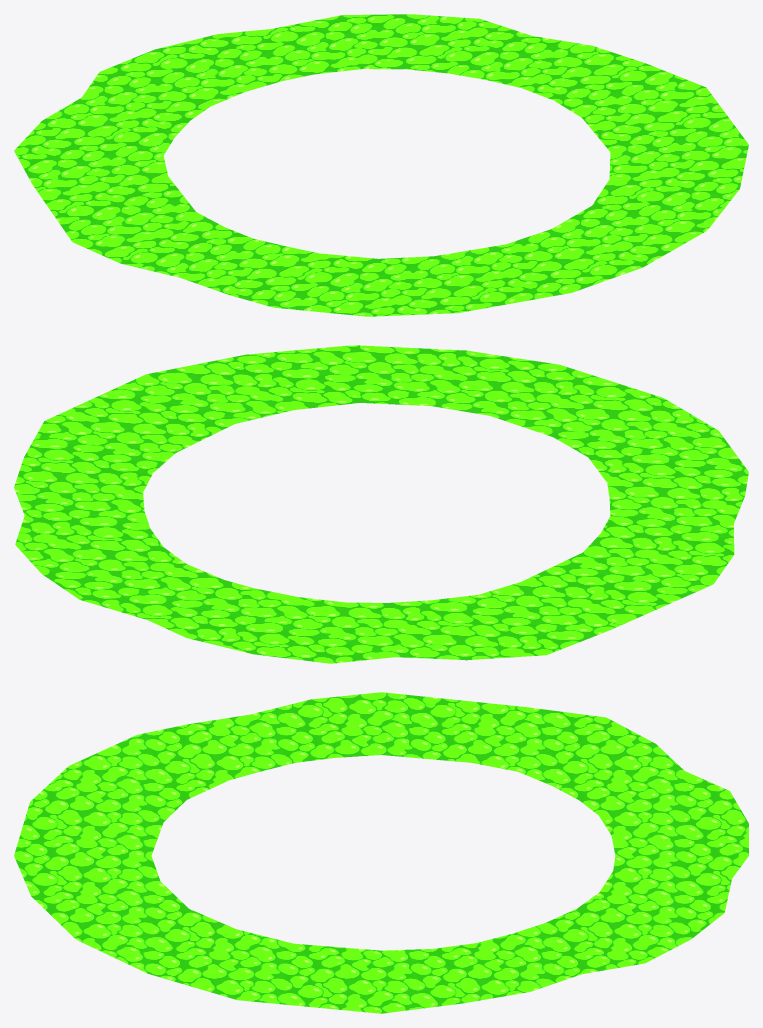
File: Lava.glb
3 views of the same model, one above another, from view 1: azimuth 30°, elevation 25°; view 2: azimuth 150°, elevation 25°; view 3: azimuth 270°, elevation 25° (orthographic). The views are drawn at different scales.
Visible parts, largest first — view 1: Lava; view 2: Lava; view 3: Lava.
Part boxes in pixels (box(x1,y1,x2,y2)): Lava: box(14, 14, 748, 316); Lava: box(14, 345, 748, 663); Lava: box(14, 692, 748, 1013).
Bounding box in the file's own units: 68.26 × 0 × 65.94.
1 material, 1 textured.
